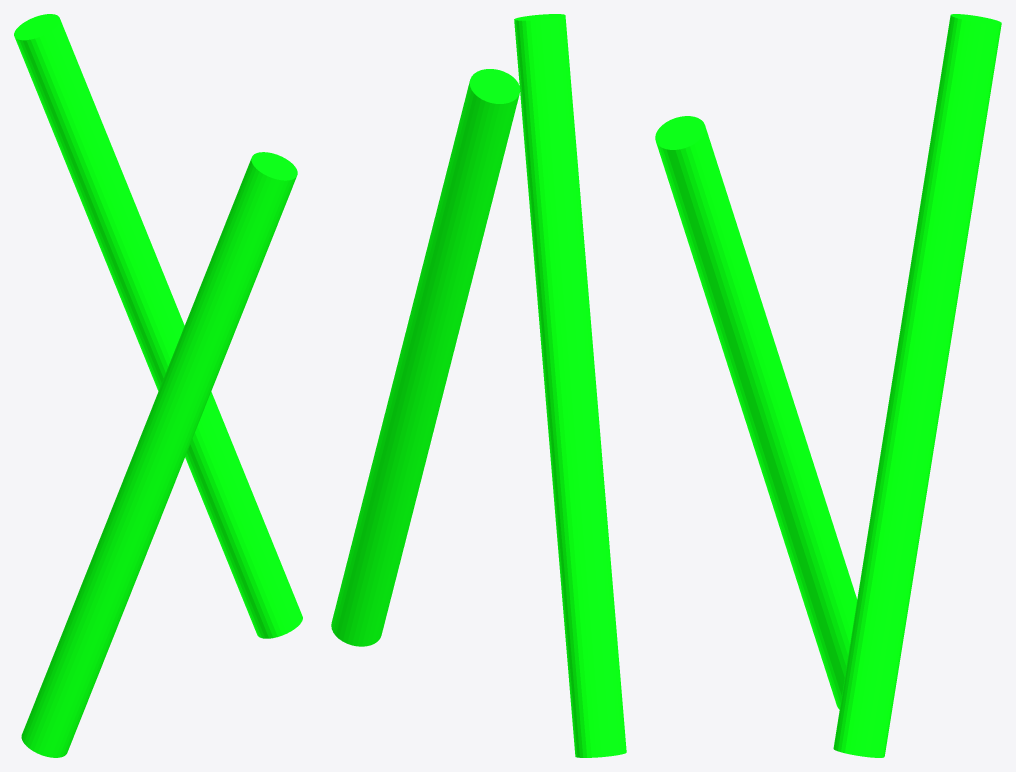
File: UraniumFuelRods.fbx
3 views of the same model, side by side, from view 1: azimuth 30°, elevation 25°; view 2: azimuth 150°, elevation 25°; view 3: azimuth 270°, elevation 25° (orthographic). The views are drawn at different scales.
Visible parts, largest first — view 1: Cylinder, Cylinder.001; view 2: Cylinder, Cylinder.001; view 3: Cylinder.001, Cylinder.
Boxes of the visible parts, <box> form: Cylinder: <box>21,152,297,757</box>; Cylinder.001: <box>14,14,302,638</box>; Cylinder: <box>514,14,626,757</box>; Cylinder.001: <box>331,69,520,646</box>; Cylinder.001: <box>833,14,1001,757</box>; Cylinder: <box>655,116,857,709</box>.
Bounding box in the file's own units: 603 × 1426 × 624.
